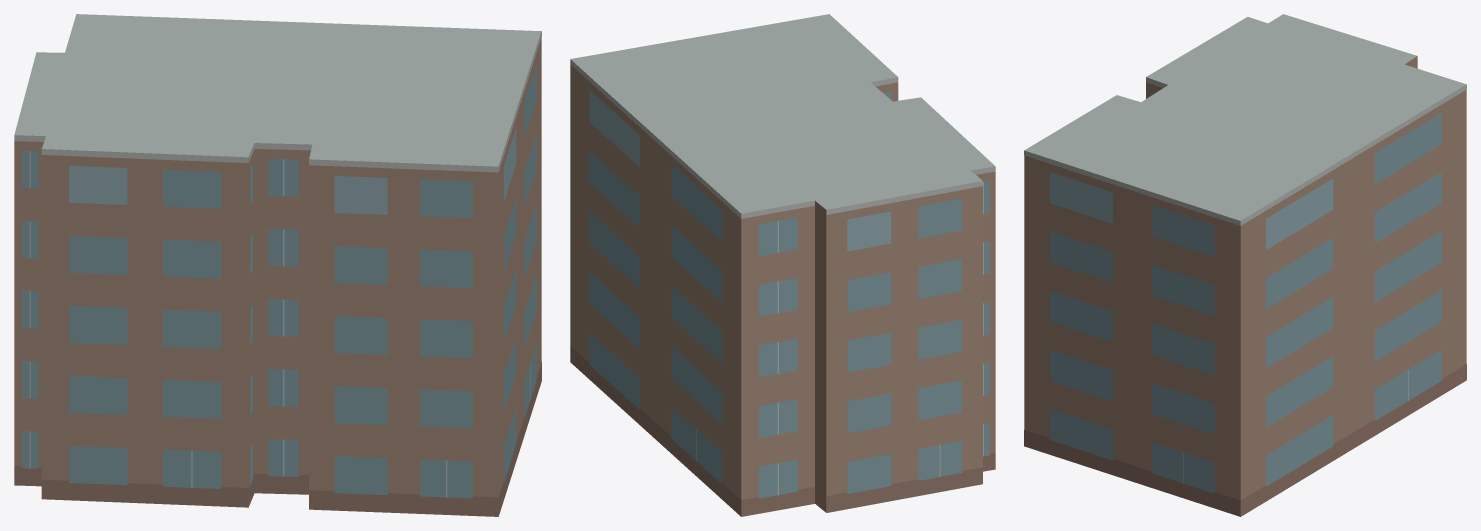
The model's file is survey-upis-32774935.glb.
The picture shows the model from 3 angles, left to right: view 1: azimuth 30°, elevation 25°; view 2: azimuth 150°, elevation 25°; view 3: azimuth 270°, elevation 25°; orthographic projection. The views are drawn at different scales.
Parts seen in each view (by area): view 1: survey-upis-32774935.tmp; view 2: survey-upis-32774935.tmp; view 3: survey-upis-32774935.tmp.
Part boxes in pixels (x1,y1,x2,y2): survey-upis-32774935.tmp: (14, 14, 541, 516); survey-upis-32774935.tmp: (570, 14, 995, 516); survey-upis-32774935.tmp: (1024, 14, 1466, 516).
Size of the model in its own units: 21.77 by 14.5 by 19.67.
